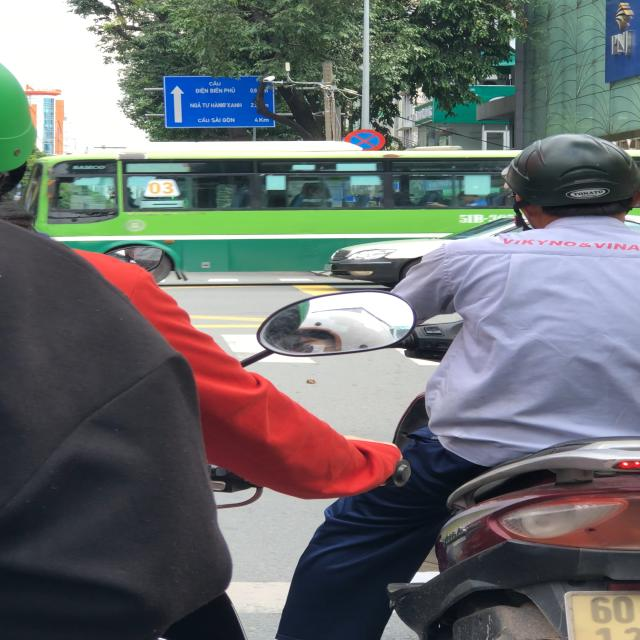Bien bao cam dung xe va do xe: (341, 123, 391, 152)
